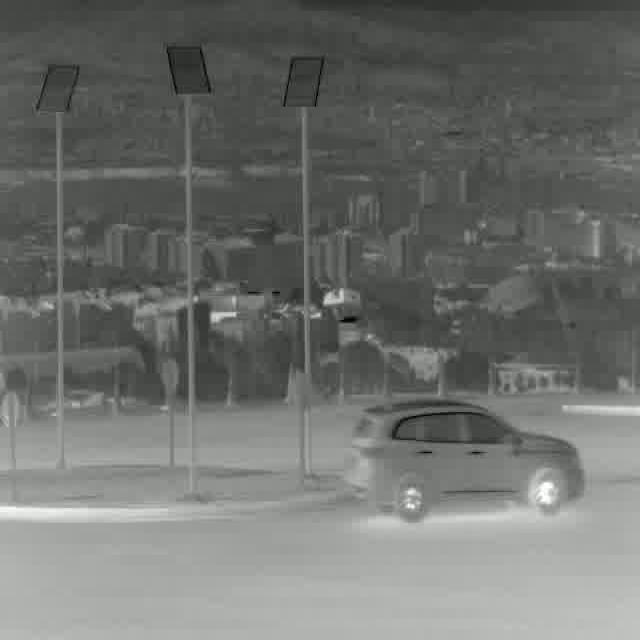Car: (350, 400, 584, 521)
